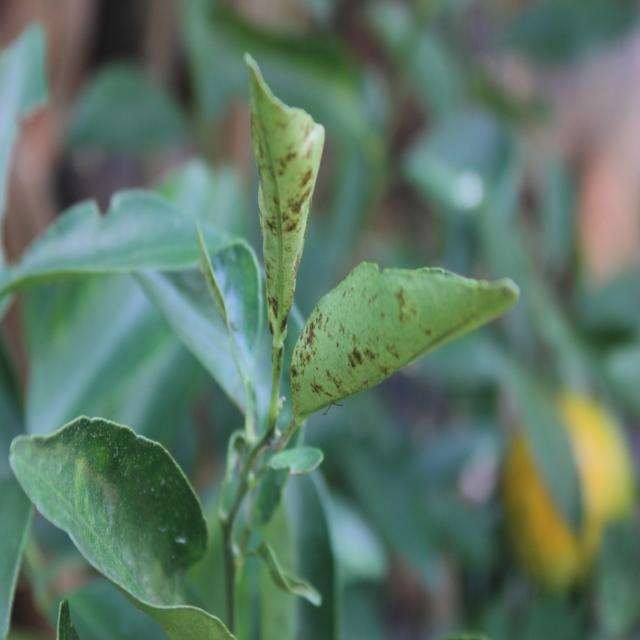melanose: (283, 254, 523, 436), (234, 46, 331, 358)
